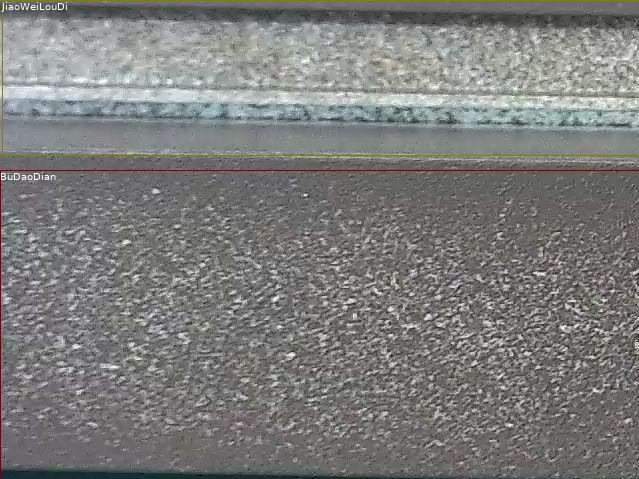BuDaoDian: (0, 170, 639, 479)
JiaoWeiLouDi: (2, 0, 639, 155)
